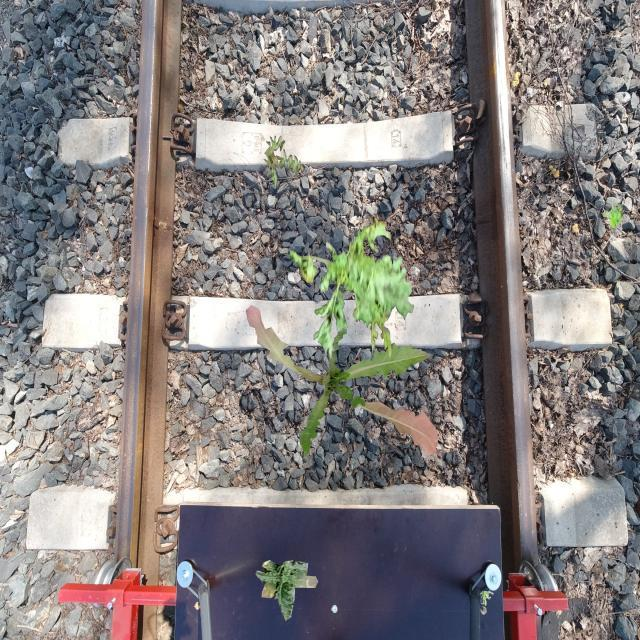Plant: (246, 305, 438, 457), (290, 215, 415, 362), (255, 560, 318, 622), (263, 135, 304, 189), (603, 204, 624, 229), (480, 591, 494, 606)
